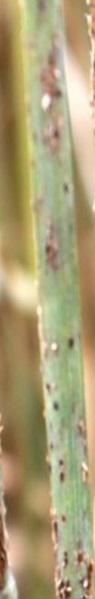Wheat: (55, 526, 95, 599), (41, 46, 61, 152), (41, 217, 63, 279), (47, 327, 80, 366), (46, 381, 69, 425), (52, 441, 75, 484), (77, 445, 93, 488)
